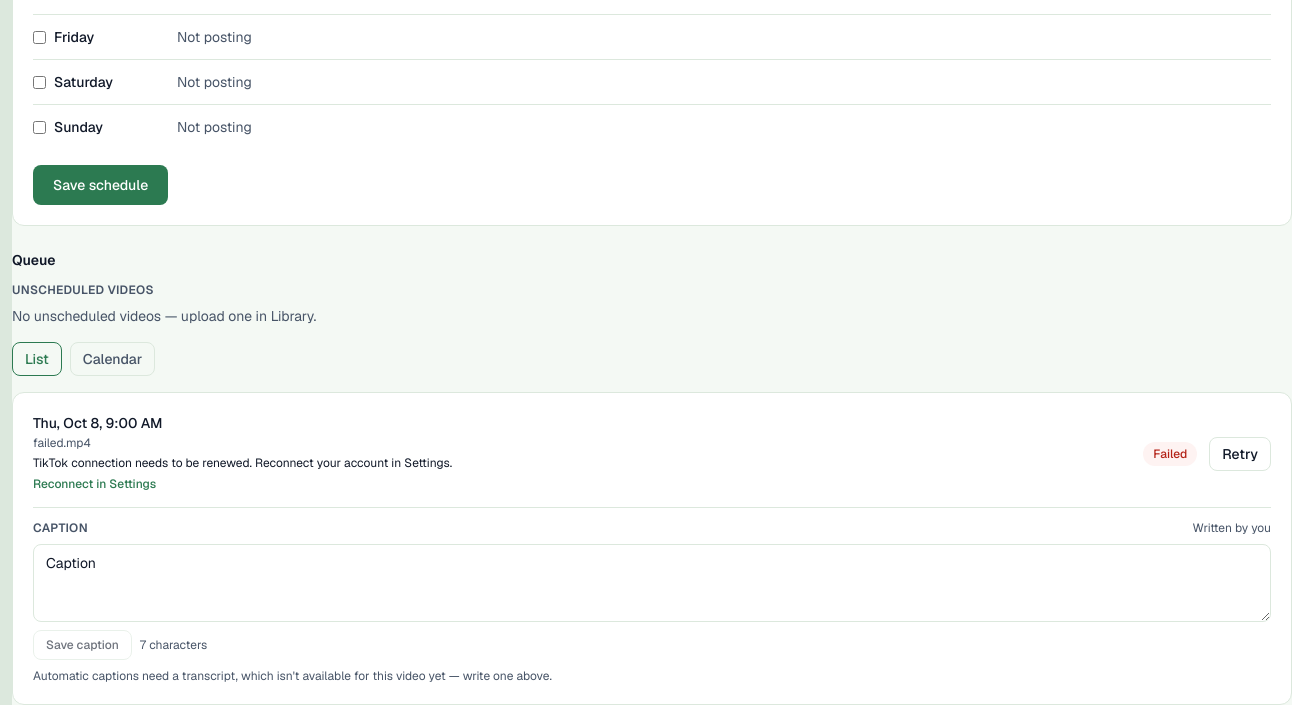
Test case: QueuePage — Queue (list/calendar, assign/unassign) › retries a failed post directly and reloads the queue
This screenshot has width=1292, height=705.
(page scrolled)
Click the button "Retry" at (1240,454), box [1209,437,1271,471]
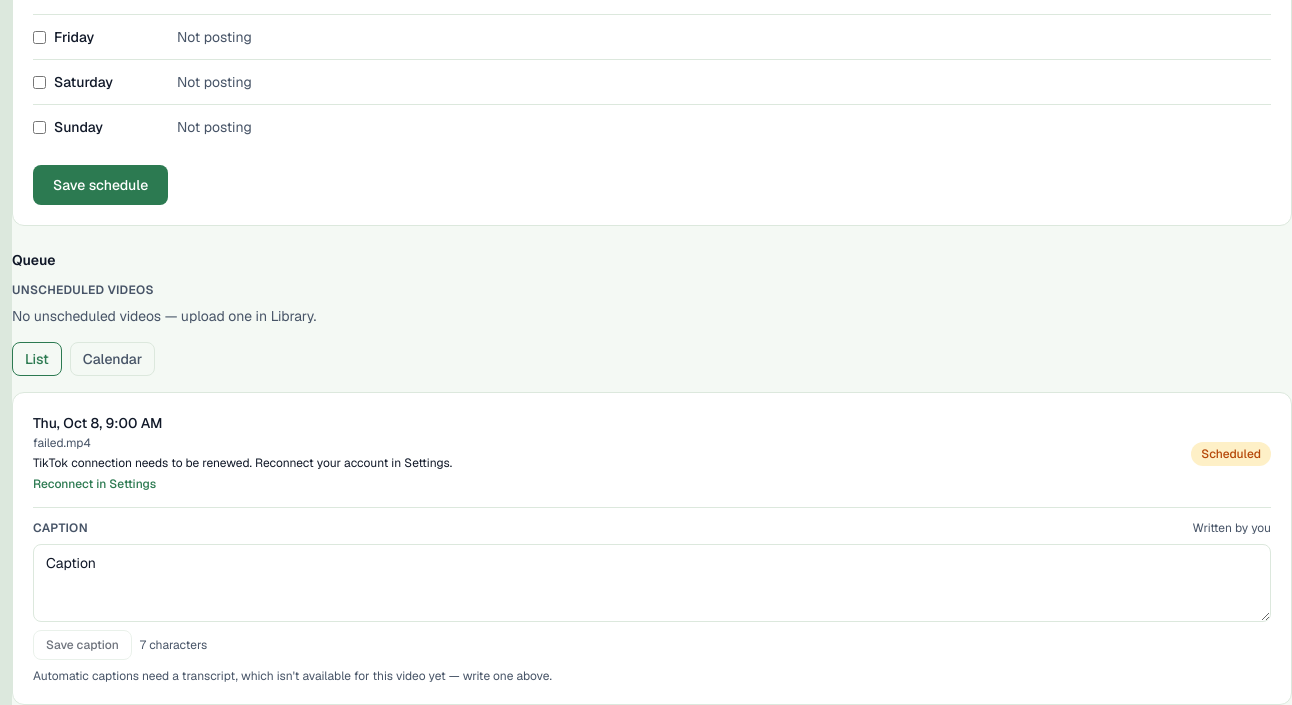
Result: the text "Scheduled" is shown at [1191,442,1271,466]
Result: the button "Retry" is gone
